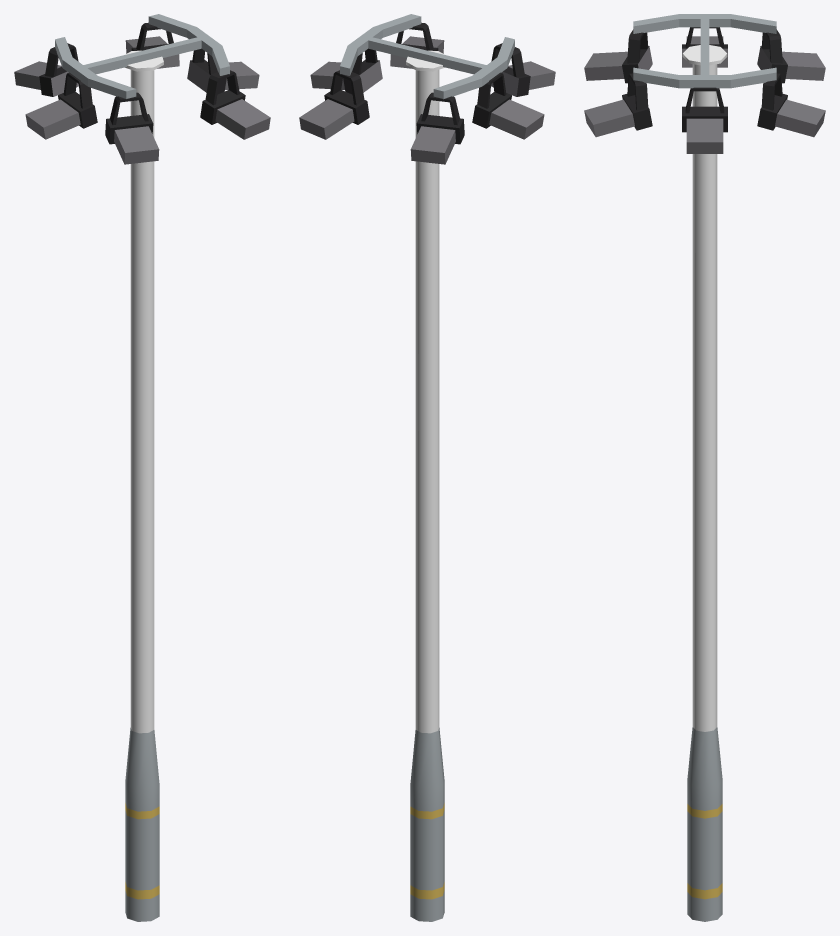
Rendered from Flood_Harbour-Light_04.fbx.
The picture shows the model from 3 angles, left to right: view 1: azimuth 30°, elevation 25°; view 2: azimuth 150°, elevation 25°; view 3: azimuth 270°, elevation 25°; orthographic projection.
Parts seen in each view (by area): view 1: lights, pole, base; view 2: lights, pole, base; view 3: pole, lights, base.
Boxes of the visible parts, box(x1,y1,x2,y2) form: lights: box(14, 14, 270, 164); pole: box(125, 50, 163, 733); base: box(125, 727, 159, 921); lights: box(299, 14, 555, 164); pole: box(406, 50, 444, 733); base: box(410, 727, 444, 921); pole: box(682, 45, 727, 731); lights: box(584, 14, 825, 153); base: box(687, 727, 722, 921).
Size of the model in its own units: 8.48 by 32.36 by 8.17.
